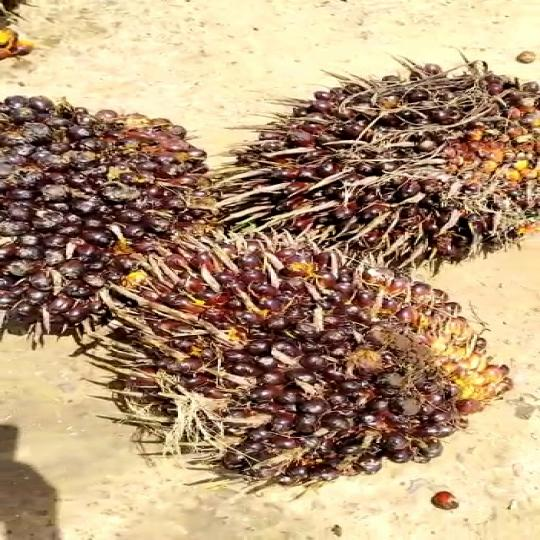kurang masak: (66, 217, 510, 485), (228, 56, 540, 288), (0, 74, 223, 358)
